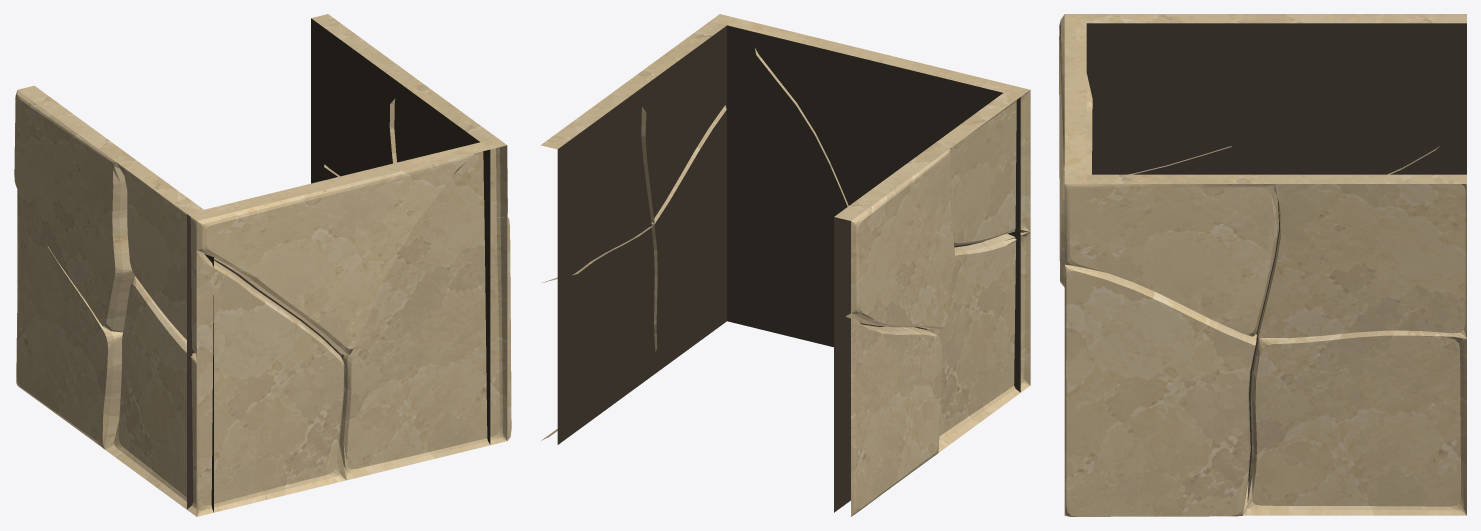
File: ground_end_01.glb
3 views of the same model, side by side, from view 1: azimuth 30°, elevation 25°; view 2: azimuth 150°, elevation 25°; view 3: azimuth 270°, elevation 25° (orthographic). The views are drawn at different scales.
Parts seen in each view (by area): view 1: GroundEnd01_Body; view 2: GroundEnd01_Body; view 3: GroundEnd01_Body.
Boxes of the visible parts, x1,y1,x2,y2 form: GroundEnd01_Body: (14,14,511,516); GroundEnd01_Body: (541,14,1030,516); GroundEnd01_Body: (1059,14,1466,516).
Bounding box in the file's own units: 1.03 × 0.91 × 1.01.
13 materials, 12 textured.
